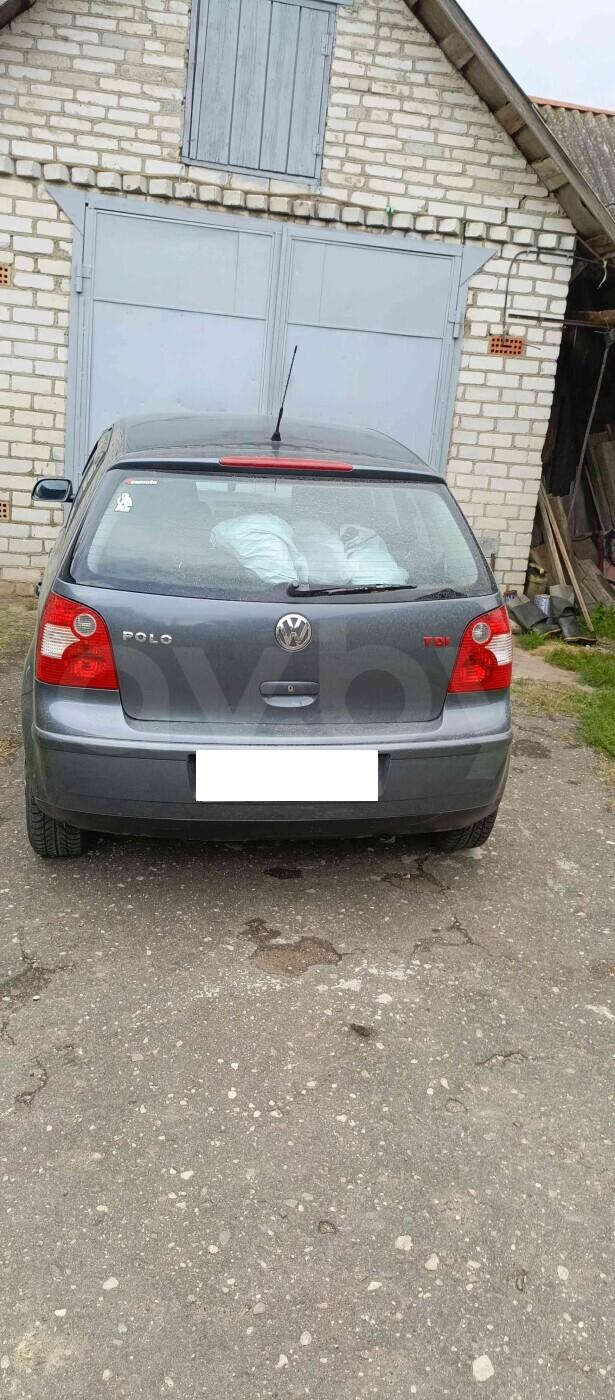Polo_2001-2005: (12, 401, 552, 906)
